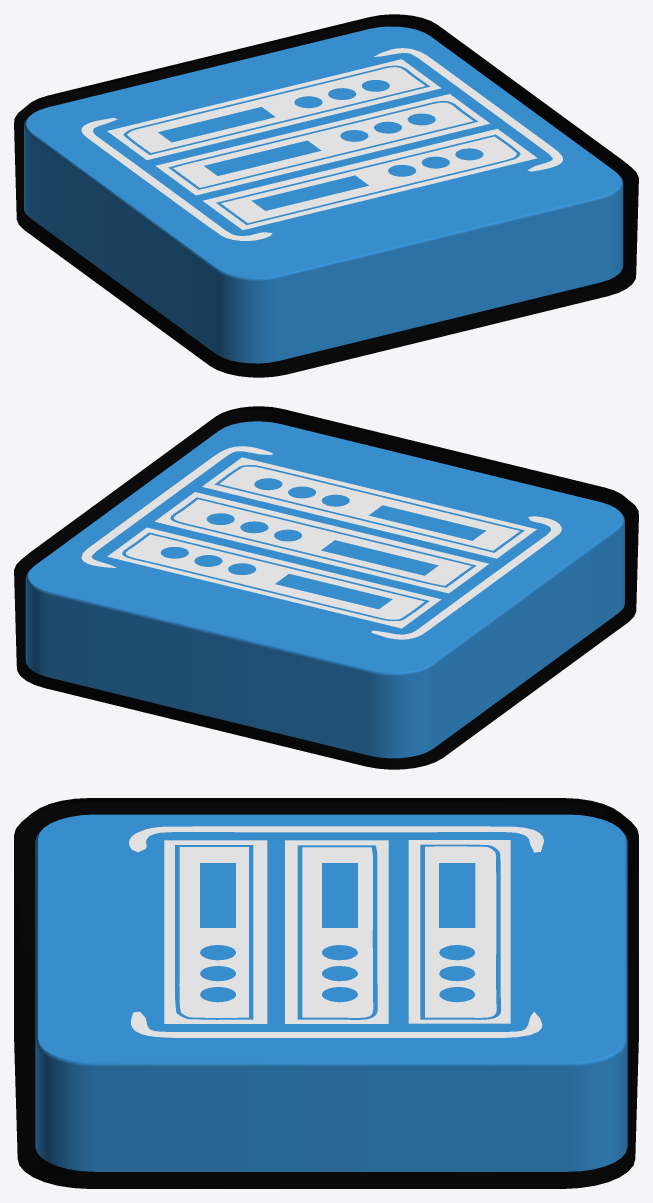
Rendered from BladeServer.obj.
The picture shows the model from 3 angles, top to bottom: view 1: azimuth 30°, elevation 25°; view 2: azimuth 150°, elevation 25°; view 3: azimuth 270°, elevation 25°; orthographic projection. The views are drawn at different scales.
Parts seen in each view (by area): view 1: BladeServer; view 2: BladeServer; view 3: BladeServer.
Boxes of the visible parts, box(x1,y1,x2,y2) form: BladeServer: box(14, 14, 638, 377); BladeServer: box(14, 406, 638, 769); BladeServer: box(14, 798, 638, 1188).
Size of the model in its own units: 1.06 by 0.2484 by 1.06.
